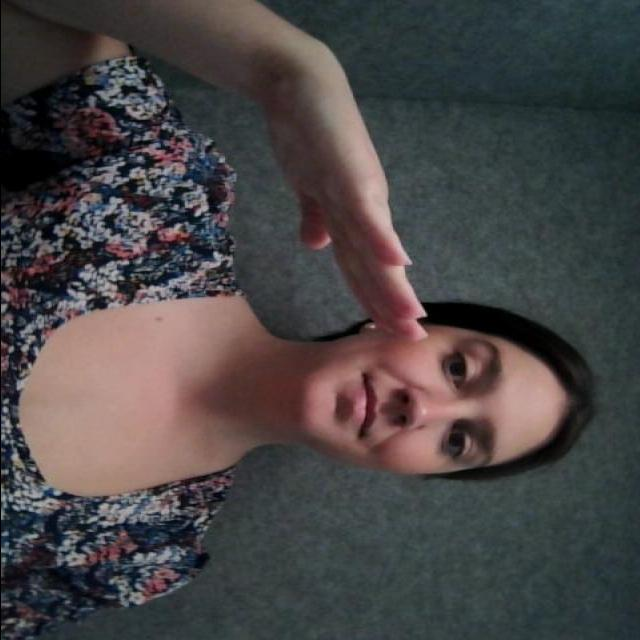Paper: (256, 56, 432, 375)
